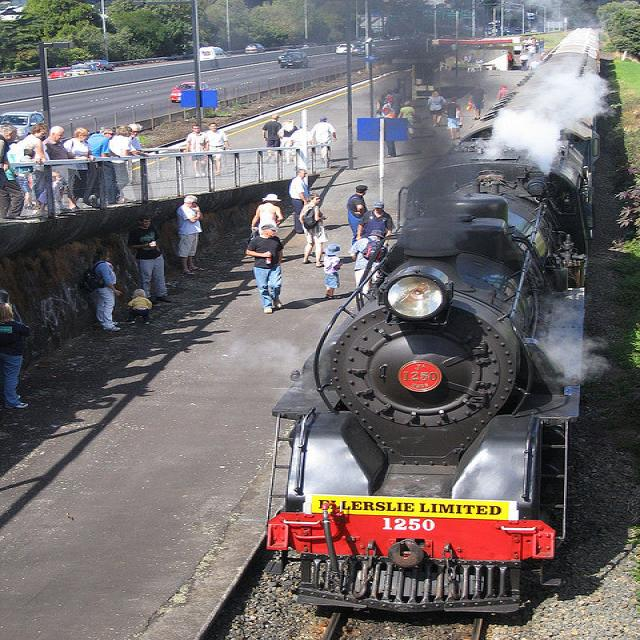Vehicle: (171, 81, 211, 102), (199, 46, 232, 61), (281, 52, 308, 68), (352, 43, 378, 57), (278, 48, 299, 64), (66, 65, 90, 77), (245, 43, 267, 55), (51, 67, 72, 79), (94, 60, 115, 70), (336, 46, 349, 54), (88, 70, 100, 74), (372, 38, 384, 42)
